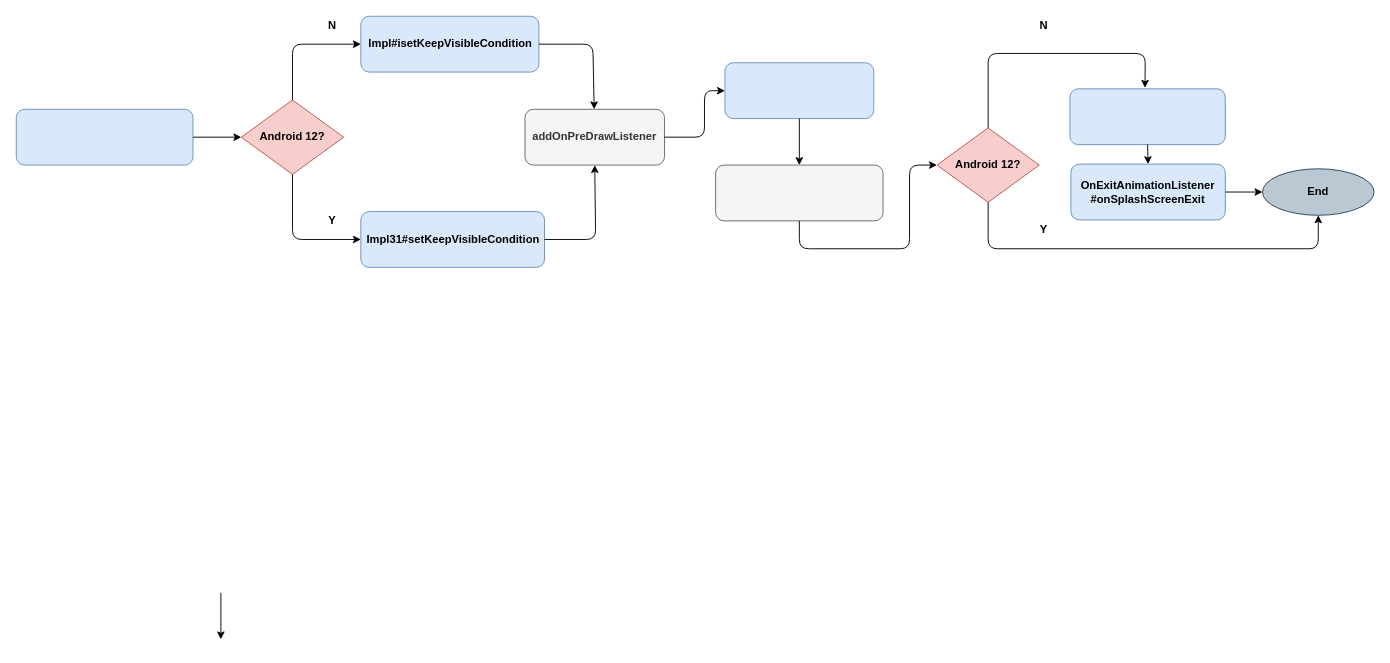
The diagram is 1390 pixels wide and 663 high, and some of its shapes have lost their labels. The shapes that lost their labels are listed below. From the top down, each one's centre as x and y in pixels, then its label:
At (x=799, y=90): "KeepOnScreenCondition #shouldKeepOnScreen".
At (x=104, y=136): "SplashScreen # setKeepVisibleCondition".
At (x=1147, y=116): "dispatchOnExitAnimation".
At (x=799, y=192): "removeOnPreDrawListener".
